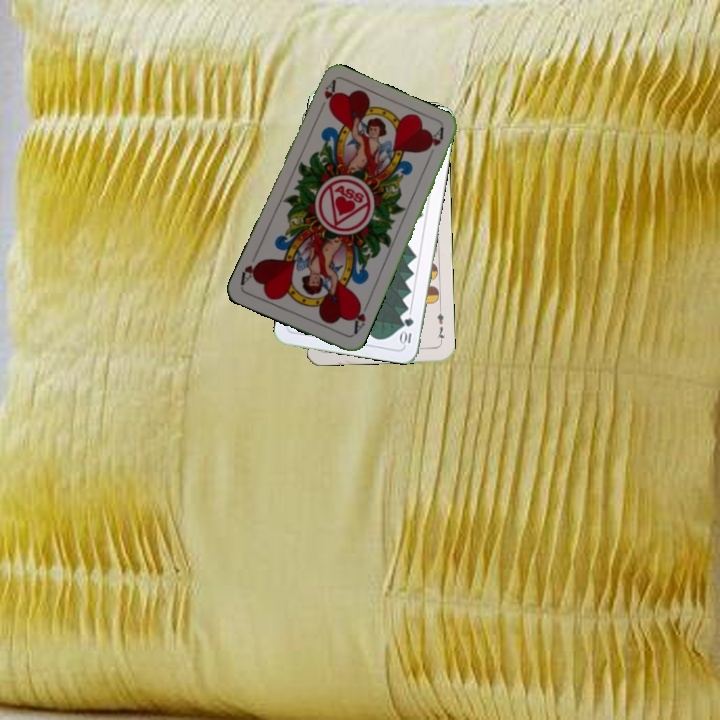E7: (433, 305, 447, 346)
G10: (397, 313, 416, 347)
HA: (348, 298, 371, 337), (315, 77, 338, 116)
